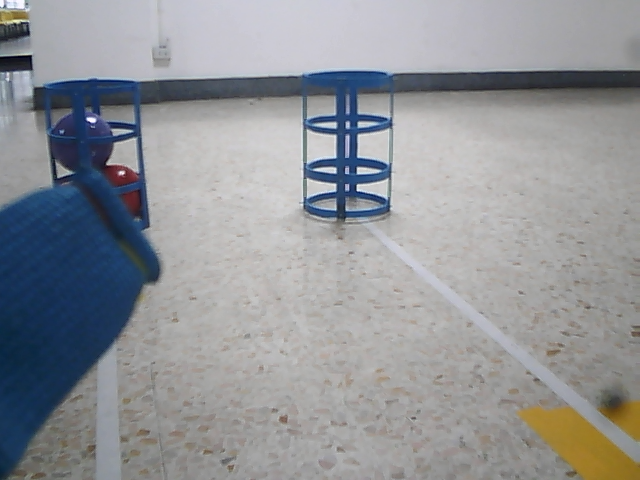Cyro: (43, 71, 151, 232), (298, 61, 398, 222)
Purple ball: (50, 109, 114, 173)
Red ball: (103, 160, 145, 217)
